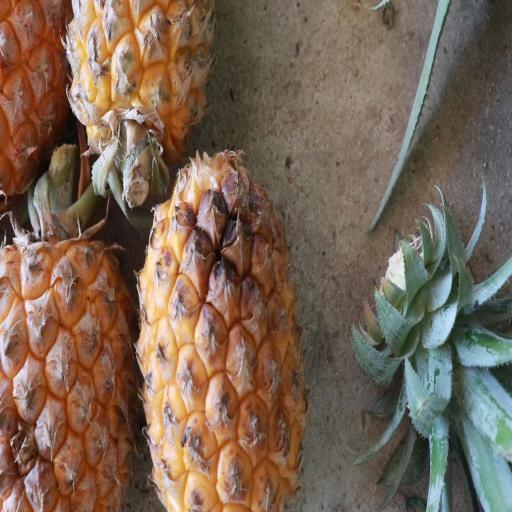Pineapple - v8 v1: (132, 141, 305, 512), (0, 146, 138, 512), (62, 0, 214, 197)
